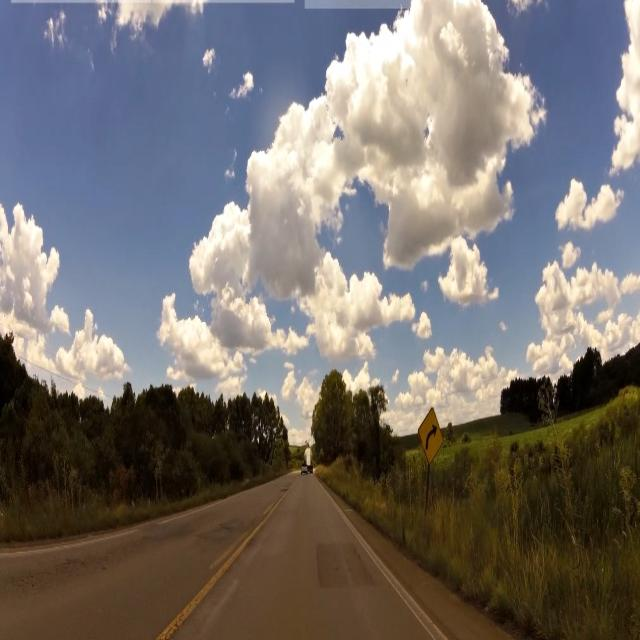A-2b: (414, 404, 446, 472)
